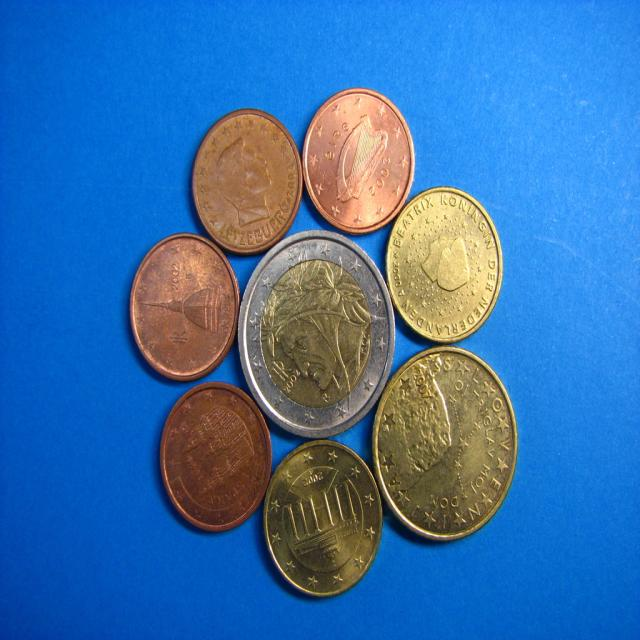Coin: (239, 222, 396, 441), (369, 340, 516, 542), (261, 438, 384, 601), (382, 183, 501, 342), (157, 380, 274, 528), (129, 229, 242, 382), (301, 85, 416, 235), (192, 106, 305, 258)
